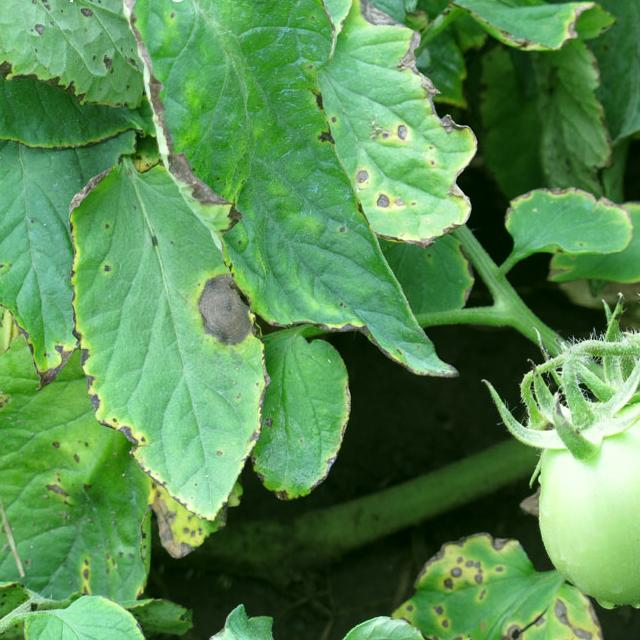Tomato Early blight leaf: (115, 0, 479, 366), (66, 158, 278, 503), (0, 367, 175, 627)
